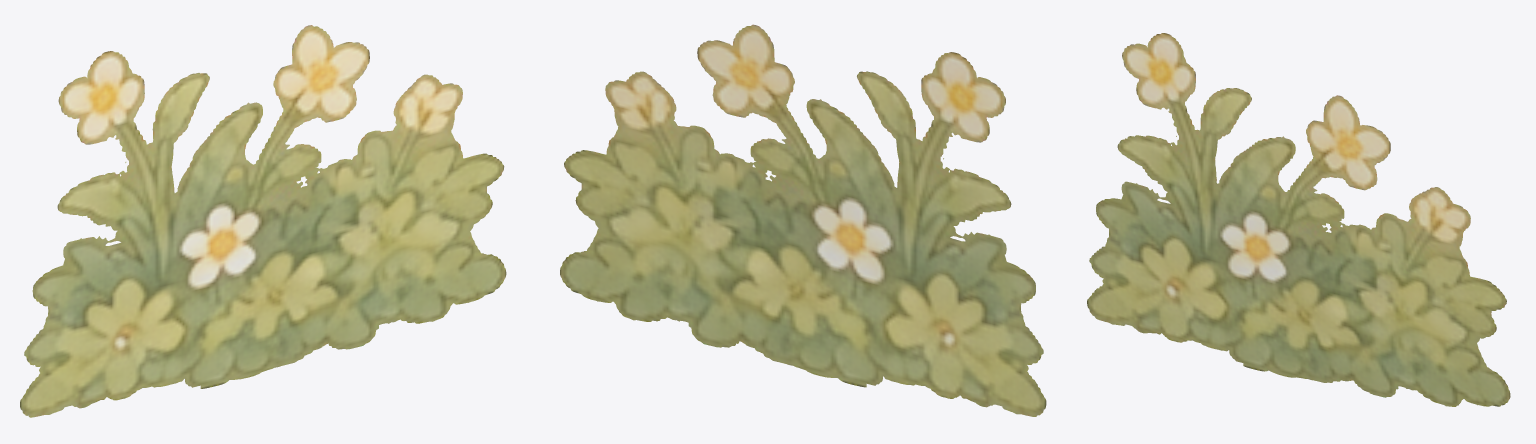
The model's file is garden_small_flowers.glb.
The picture shows the model from 3 angles, left to right: view 1: azimuth 30°, elevation 25°; view 2: azimuth 150°, elevation 25°; view 3: azimuth 330°, elevation 25°; orthographic projection. The views are drawn at different scales.
Visible parts, largest first — view 1: small_flowers / painted relief; view 2: small_flowers / painted relief; view 3: small_flowers / painted relief.
Part boxes in pixels (x1,y1,x2,y2): small_flowers / painted relief: (20,25,506,417); small_flowers / painted relief: (560,24,1046,416); small_flowers / painted relief: (1087,33,1510,406).
Bounding box in the file's own units: 4.07 × 3.05 × 0.0798.
1 material, 1 textured.
